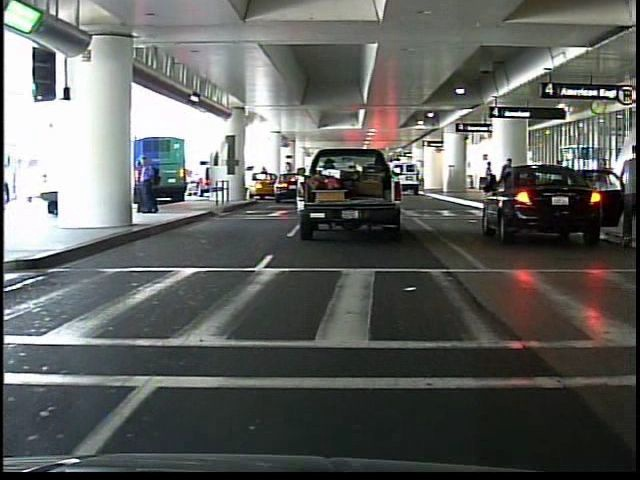person: (135, 153, 162, 217)
